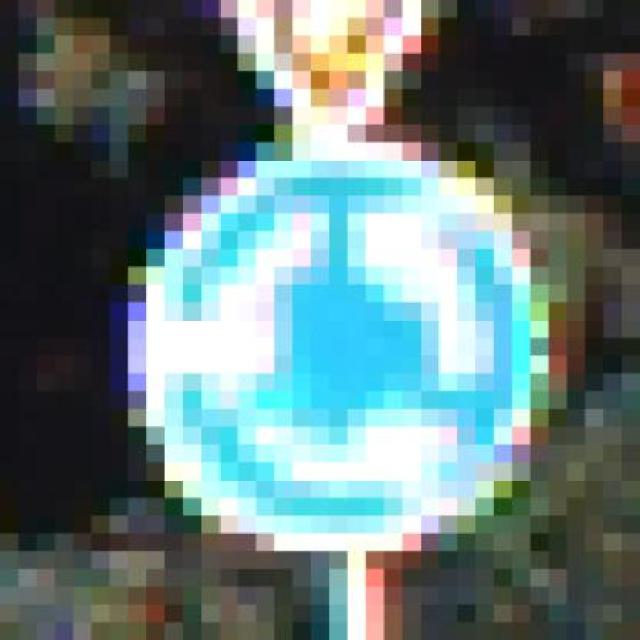Round-About: (73, 142, 604, 587)
